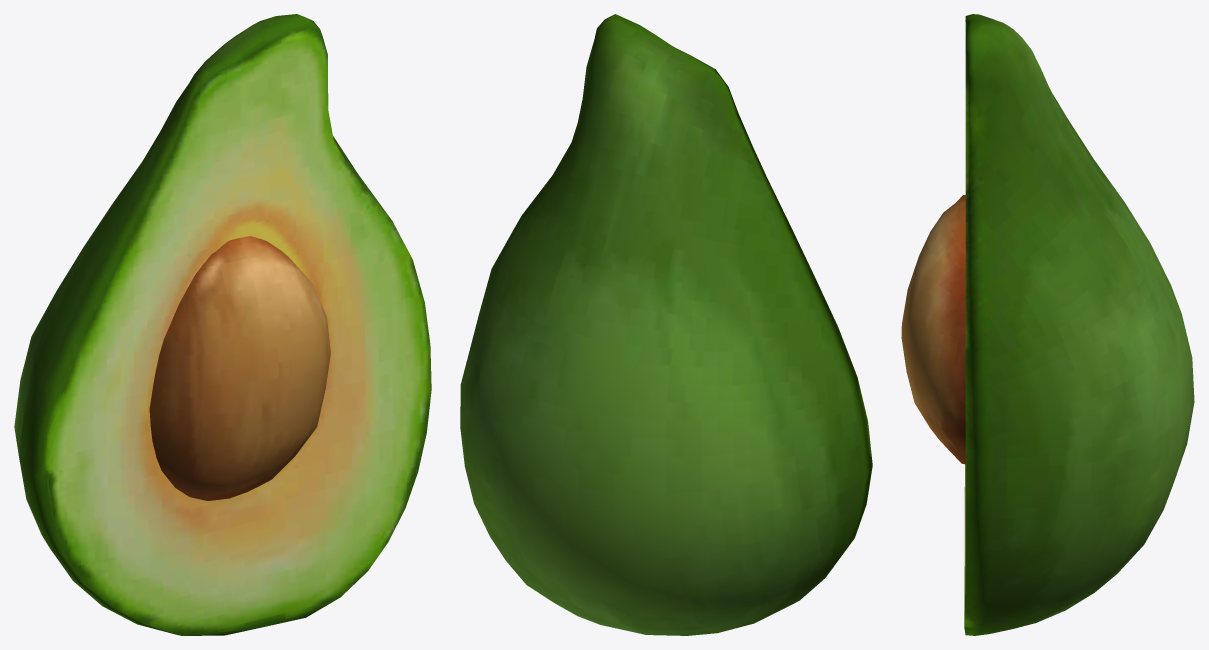
3 renders of one model, left to right at view 1: azimuth 30°, elevation 25°; view 2: azimuth 150°, elevation 25°; view 3: azimuth 270°, elevation 25°, orthographic. The views are drawn at different scales.
Visible parts, largest first — view 1: Avocado; view 2: Avocado; view 3: Avocado.
Part boxes in pixels (x1=…): Avocado: x1=14, y1=14, x2=431, y2=635; Avocado: x1=460, y1=14, x2=872, y2=635; Avocado: x1=901, y1=14, x2=1194, y2=635.
Size of the model in its own units: 0.0426 by 0.0629 by 0.0276.
Materials: 1 (1 with a texture image).
